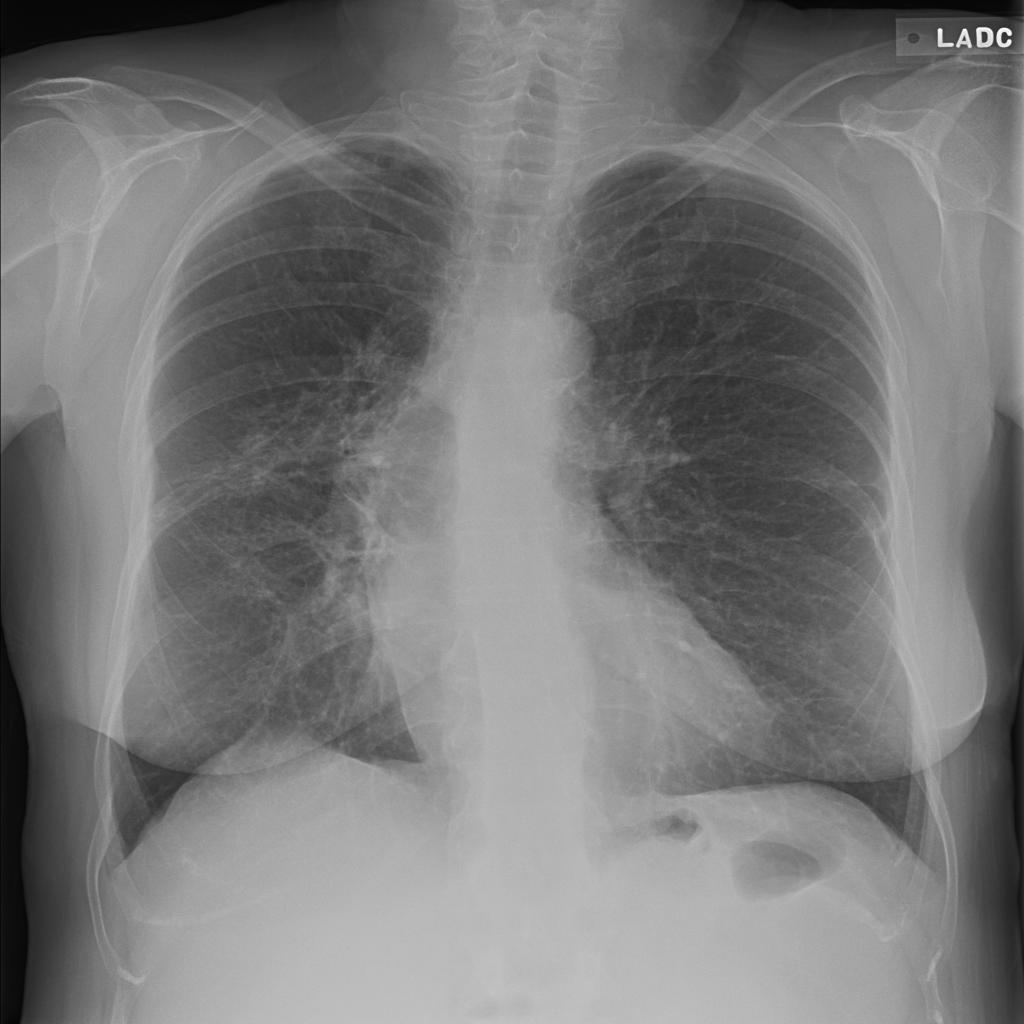Nodule: (170, 93, 219, 130), (457, 309, 504, 346)
